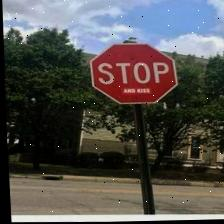Stop: (88, 43, 176, 105)
